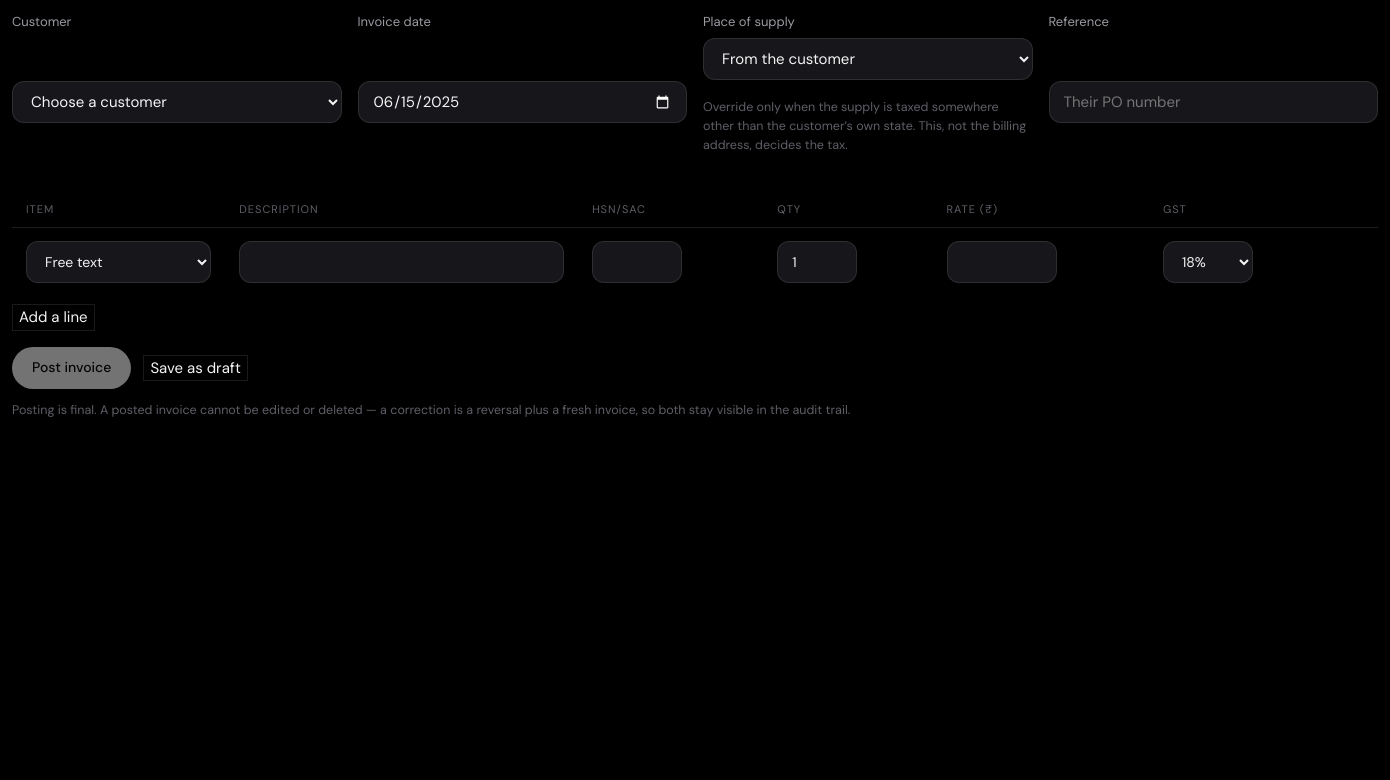
Test: InvoiceForm › the preview › multiplies by the quantity
Select "Anand Enterprises · 29AAACA1111A1Z7" in the dropdown labelled "Customer": {"x": 177, "y": 102} [12,81,342,123]
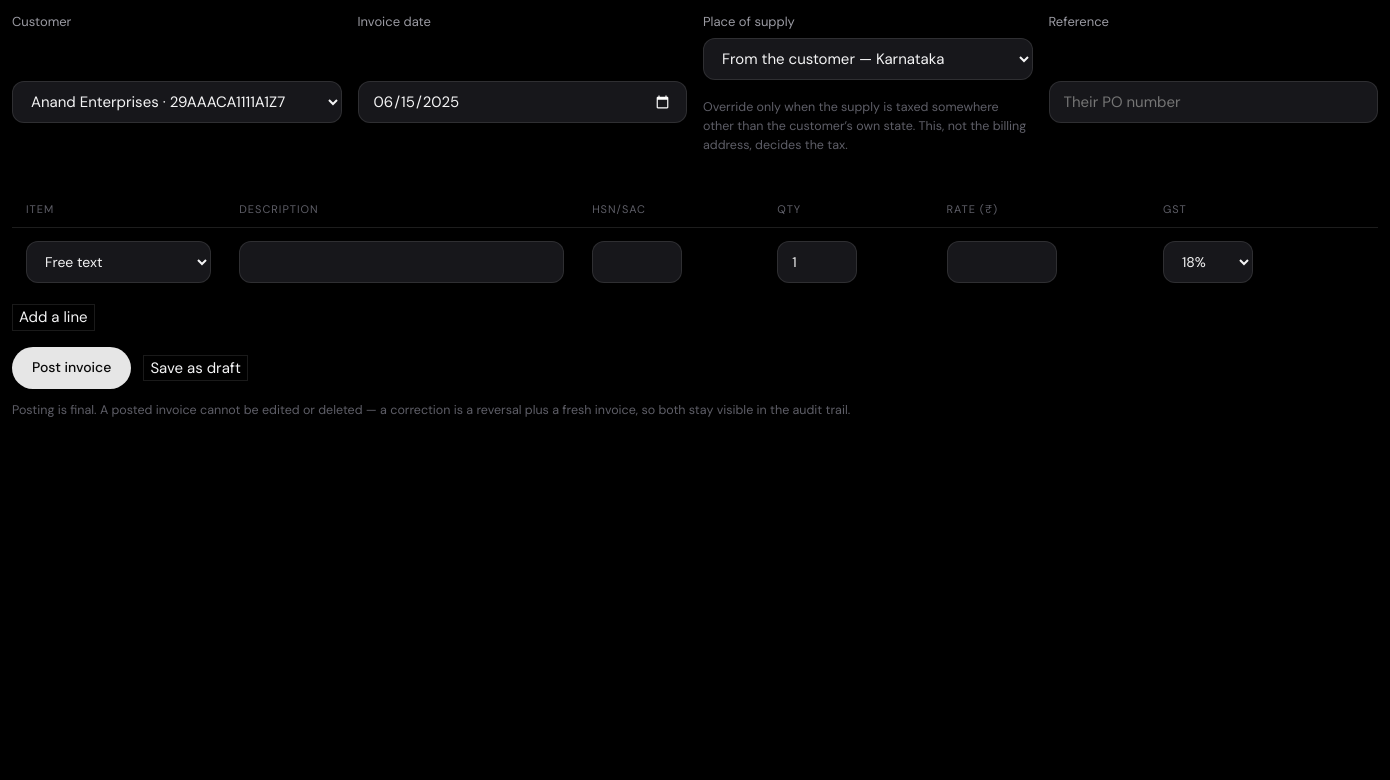
In the field named "Rate on line 1": {"x": 1002, "y": 262} [947,241,1057,283], type "1000"
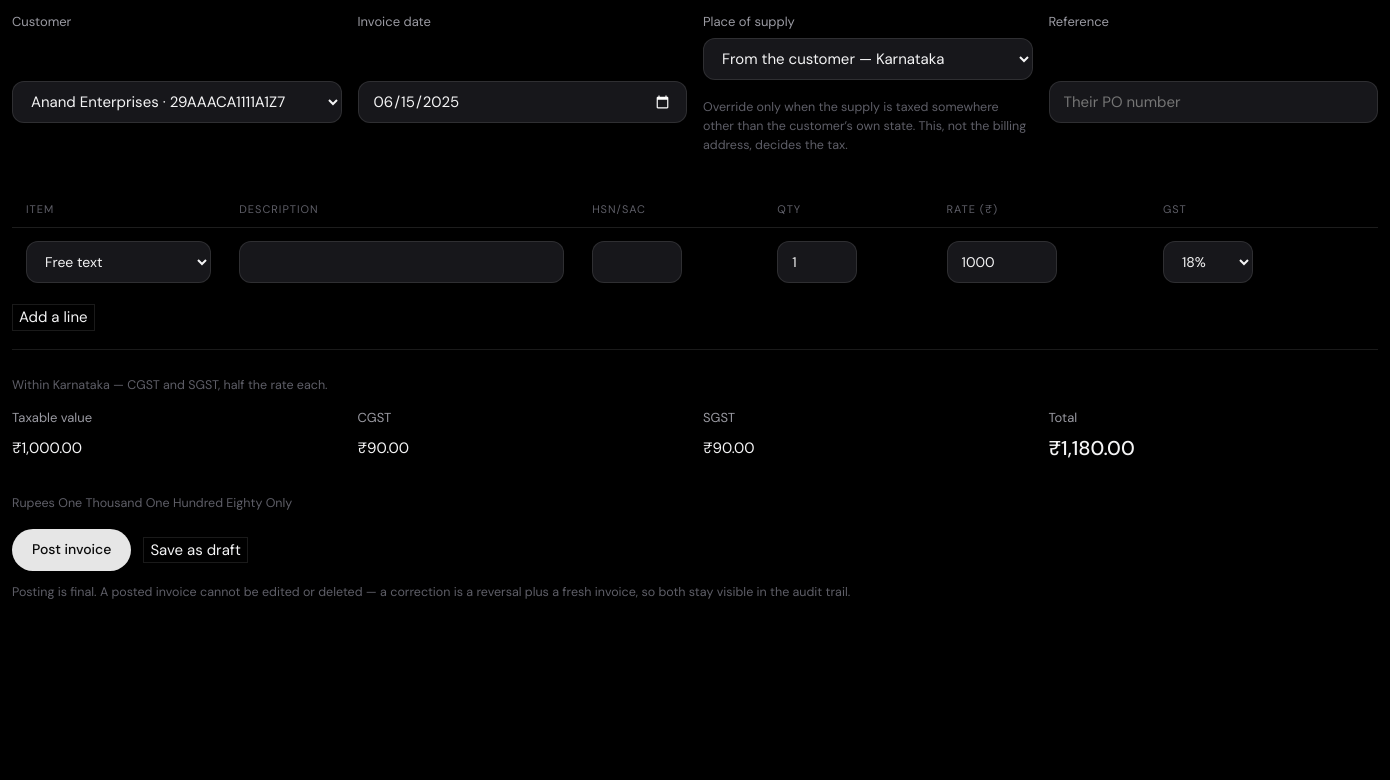
Replace the text in the field named "Quantity on line 1" with "2.5": {"x": 817, "y": 262} [777,241,857,283]
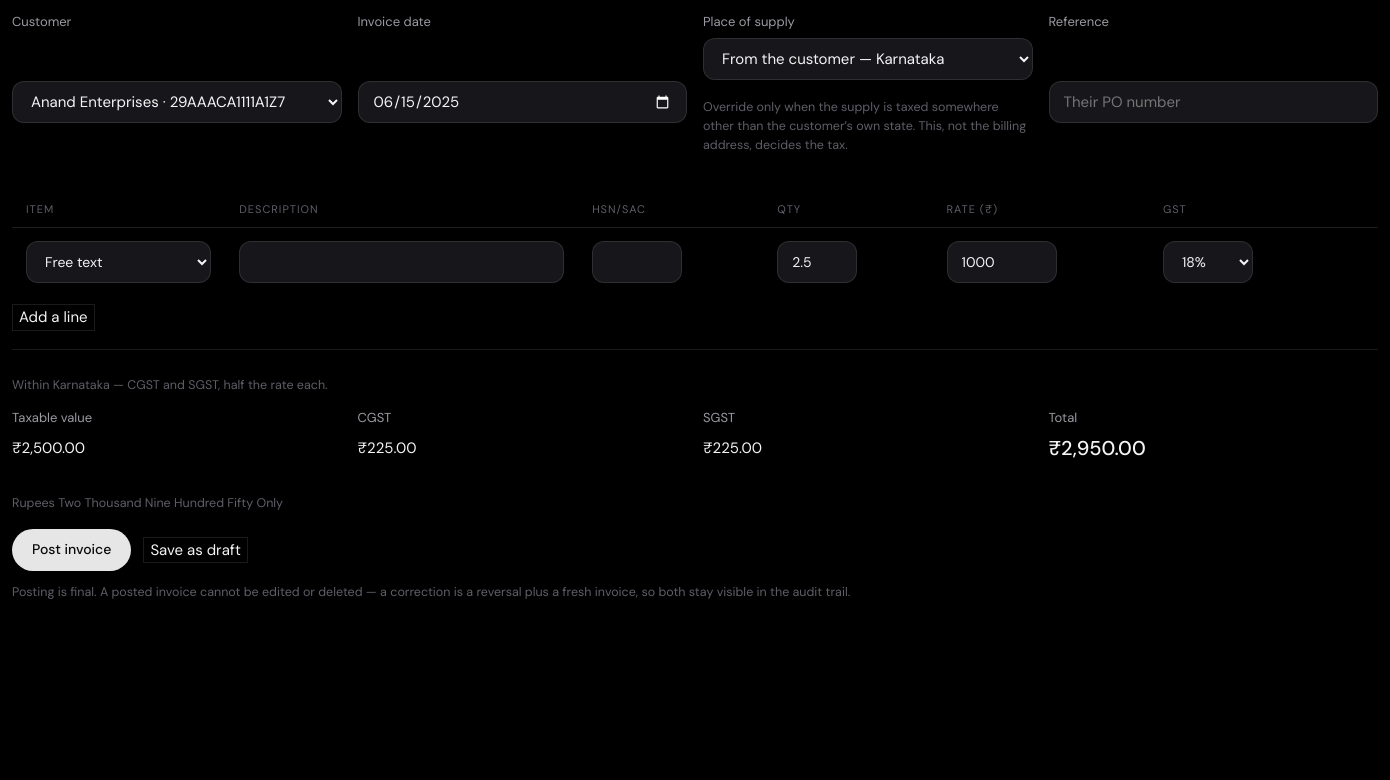
Expected: the text "₹2,500.00" is shown, [12,438,85,458]
Expected: the text "₹2,950.00" is shown, [1048,435,1146,461]
